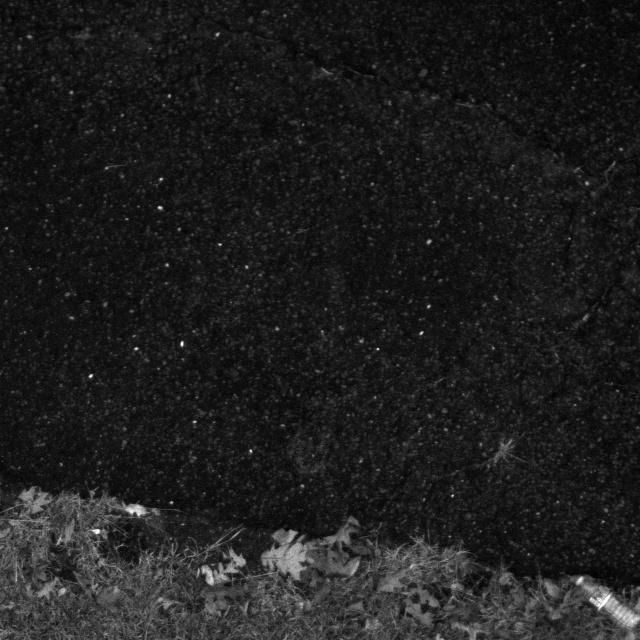bottle: (563, 568, 640, 640)
